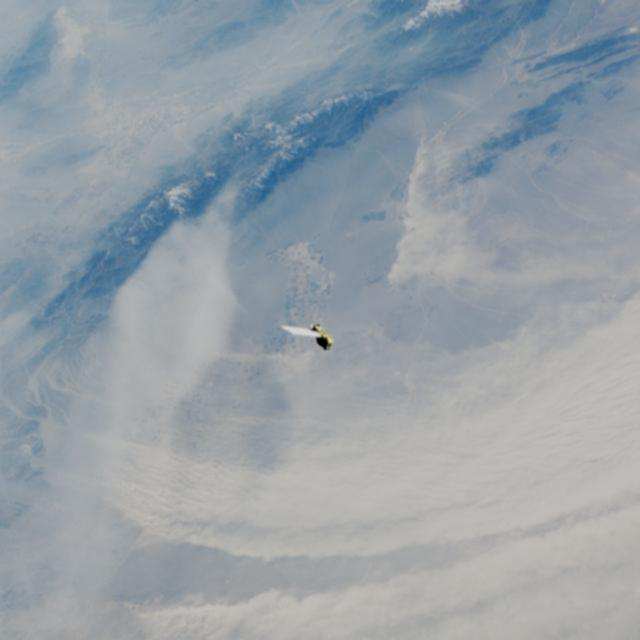satellite: (280, 313, 338, 355)
